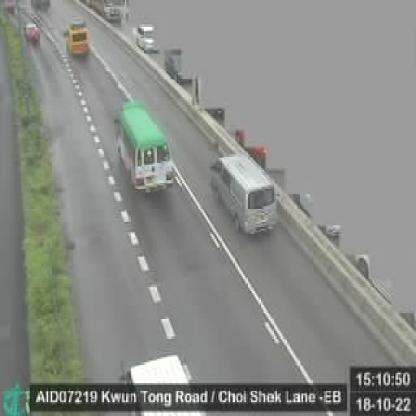Car: (209, 153, 280, 238), (63, 16, 92, 57), (135, 22, 159, 54), (23, 20, 44, 48)
Minibus: (113, 99, 175, 198)
